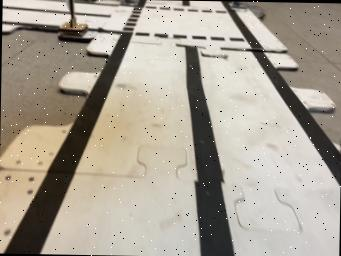street: (2, 0, 341, 256), (2, 0, 341, 256), (2, 0, 341, 256), (2, 0, 341, 256), (2, 0, 341, 256), (2, 0, 341, 256), (2, 0, 69, 28), (2, 0, 69, 28), (2, 0, 69, 28), (2, 0, 69, 28), (2, 0, 69, 28), (2, 0, 69, 28)
